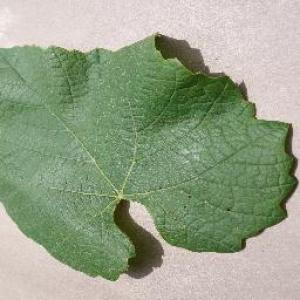Folha: (0, 31, 299, 282)
